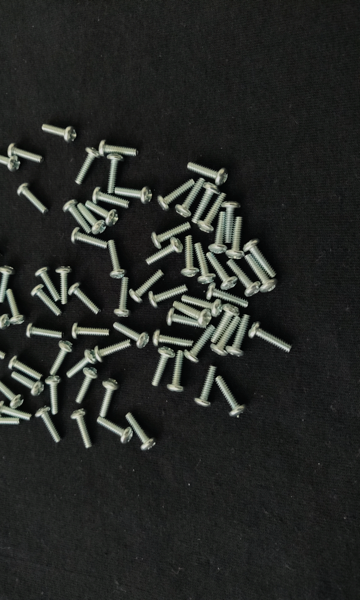shortscrew: (243, 238, 278, 278), (248, 322, 293, 353), (245, 253, 279, 293), (216, 376, 247, 418), (157, 179, 196, 212), (129, 269, 165, 304), (227, 260, 261, 297), (206, 252, 238, 291), (193, 182, 222, 225), (211, 317, 241, 358), (198, 192, 227, 234), (126, 413, 158, 451), (176, 178, 206, 218), (185, 325, 216, 363), (145, 238, 185, 267), (68, 282, 102, 316), (212, 304, 240, 345), (226, 315, 252, 358), (151, 222, 192, 249), (17, 183, 50, 216), (194, 365, 219, 408), (206, 283, 249, 308), (187, 162, 230, 187), (148, 284, 189, 310), (113, 322, 151, 350), (35, 406, 62, 445), (75, 146, 102, 185), (97, 417, 134, 445), (151, 347, 176, 388), (30, 285, 62, 317), (63, 199, 92, 234), (173, 302, 213, 327), (195, 243, 218, 285), (78, 203, 108, 235), (35, 266, 61, 302), (94, 339, 133, 363), (49, 340, 74, 377), (86, 200, 120, 227), (11, 371, 46, 397), (165, 308, 208, 329), (67, 349, 98, 378), (71, 409, 93, 449), (226, 216, 246, 260), (93, 187, 131, 210), (75, 368, 99, 404), (221, 201, 241, 244), (98, 378, 120, 417), (209, 209, 228, 254), (71, 228, 109, 250), (106, 151, 125, 195), (181, 236, 200, 278), (8, 357, 42, 380), (108, 240, 128, 279), (153, 329, 194, 348), (114, 278, 133, 318), (6, 289, 27, 325), (167, 351, 185, 393), (0, 379, 25, 409), (8, 144, 45, 164), (42, 123, 78, 143), (56, 266, 74, 304), (73, 322, 111, 340), (115, 187, 153, 205), (45, 375, 62, 415), (99, 141, 139, 158), (0, 401, 33, 421), (0, 266, 16, 303), (26, 324, 64, 339), (0, 152, 21, 173), (0, 413, 19, 429), (0, 310, 10, 330), (0, 336, 6, 360), (0, 246, 3, 278)
